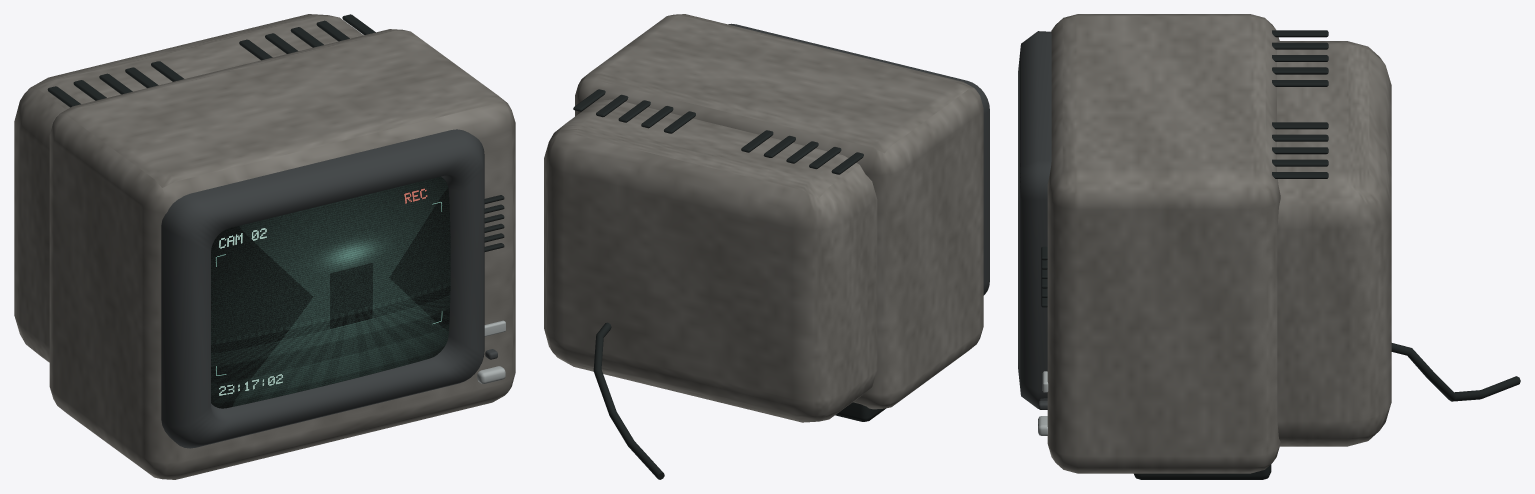
File: security-monitor.glb
3 views of the same model, side by side, from view 1: azimuth 30°, elevation 25°; view 2: azimuth 150°, elevation 25°; view 3: azimuth 270°, elevation 25° (orthographic). The views are drawn at different scales.
Visible parts, largest first — view 1: Front chassis, Curved glass tube, Rounded stepped bezel, Tapered rear case; view 2: Tapered rear case, Front chassis, Rounded stepped bezel, Power lead, Rubber foot; view 3: Front chassis, Tapered rear case, Rounded stepped bezel, Power lead, Rubber foot.001.
Part boxes in pixels (x1,y1,x2,y2): Front chassis: [49, 29, 515, 479]; Curved glass tube: [211, 176, 450, 408]; Rounded stepped bezel: [161, 129, 484, 448]; Tapered rear case: [14, 14, 363, 362]; Tapered rear case: [544, 99, 877, 422]; Front chassis: [575, 14, 983, 409]; Rounded stepped bezel: [728, 23, 989, 295]; Power lead: [593, 322, 664, 479]; Rubber foot: [835, 402, 885, 421]; Front chassis: [1047, 14, 1280, 473]; Tapered rear case: [1277, 41, 1391, 446]; Rounded stepped bezel: [1018, 31, 1051, 408]; Power lead: [1391, 343, 1520, 401]; Rubber foot.001: [1134, 464, 1271, 479].
Size of the model in its own units: 0.445 by 0.3675 by 0.5303.
5 materials, 2 textured.
